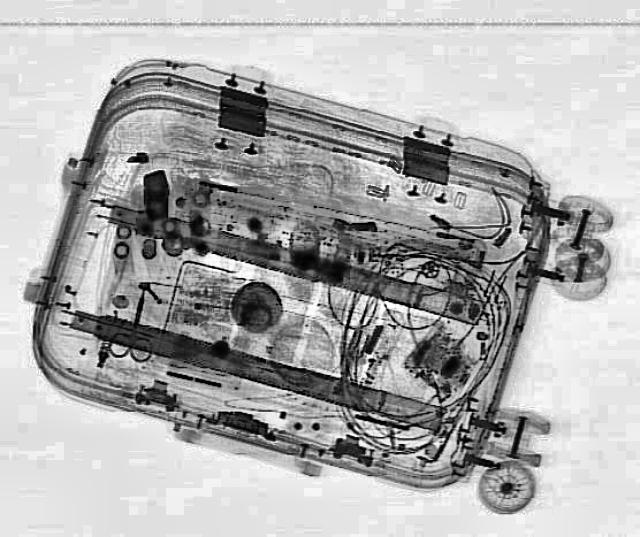Scissors: (104, 285, 166, 363)
